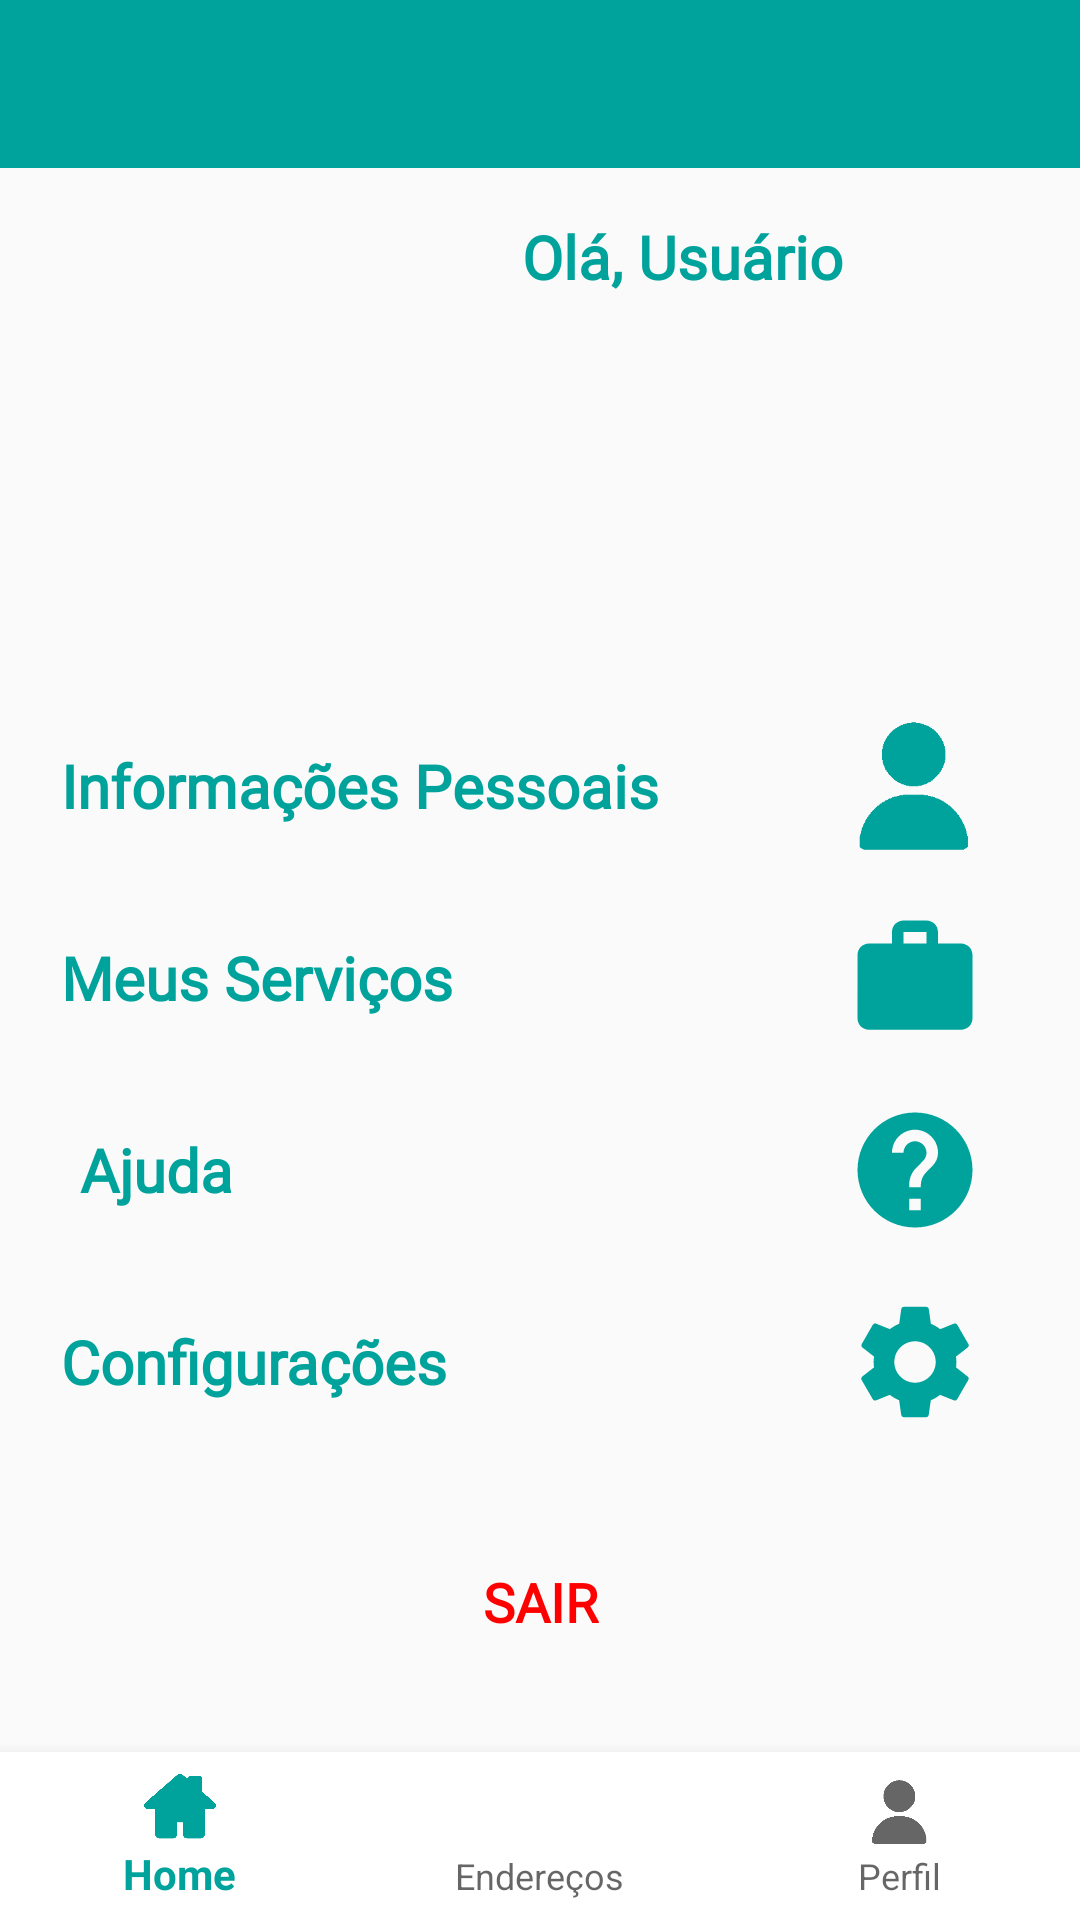

Screen size 1080px x 1920px. Icon name, then its center in pixels as point (x, y):
help: point (915, 1170)
settings: point (915, 1362)
work: point (915, 975)
